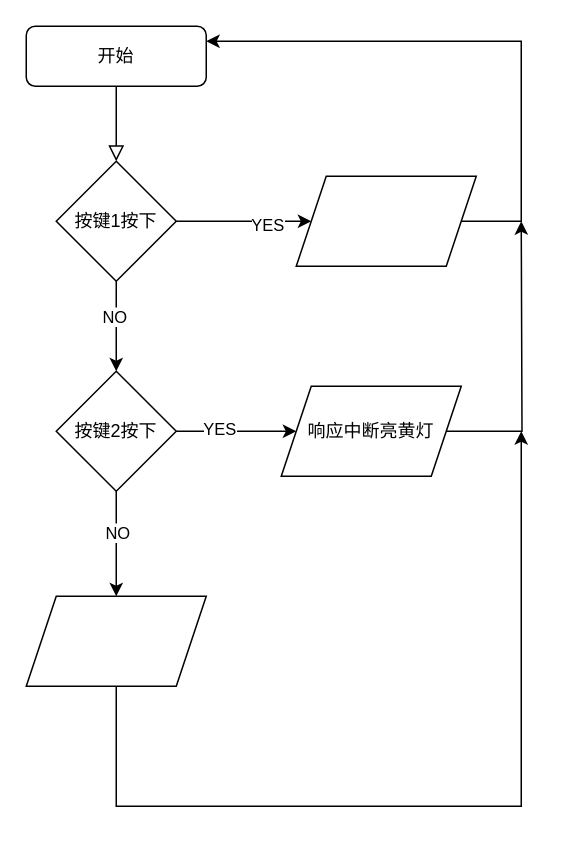
The diagram is 561 pixels wide and 845 high, and some of its shapes have lost their labels. The shapes that lost their labels are listed below. From the top down, each one's centre as x and y in pixels, then its label:
At point (385, 220): "响应中断亮红灯".
At point (115, 640): "循环展示4个状态".
